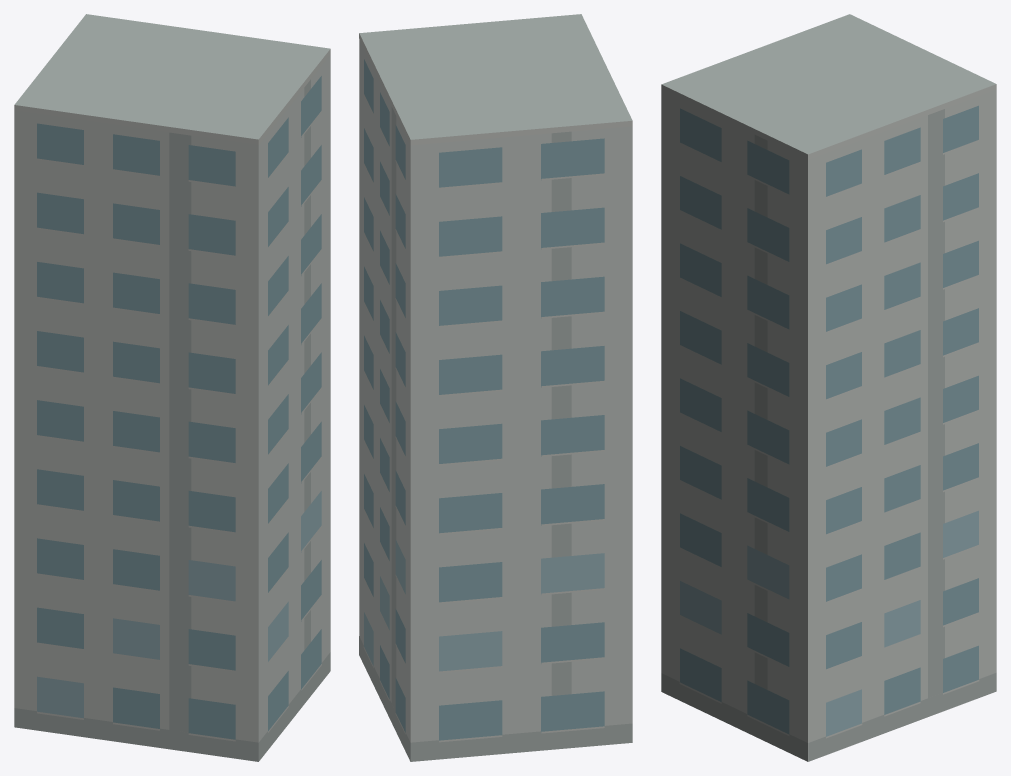
The model's file is residential-19ef0b75-436c-4d8e-a880-770372d40706.glb.
3 renders of one model, left to right at view 1: azimuth 30°, elevation 25°; view 2: azimuth 150°, elevation 25°; view 3: azimuth 270°, elevation 25°, orthographic. The views are drawn at different scales.
Parts seen in each view (by area): view 1: residential-19ef0b75-436c-4d8e-a880-770372d40706.tmp; view 2: residential-19ef0b75-436c-4d8e-a880-770372d40706.tmp; view 3: residential-19ef0b75-436c-4d8e-a880-770372d40706.tmp.
Boxes of the visible parts, <box> form: residential-19ef0b75-436c-4d8e-a880-770372d40706.tmp: <box>14,14,330,761</box>; residential-19ef0b75-436c-4d8e-a880-770372d40706.tmp: <box>359,14,632,761</box>; residential-19ef0b75-436c-4d8e-a880-770372d40706.tmp: <box>661,14,996,761</box>.
Bounding box in the file's own units: 13.4 × 27 × 13.51.
